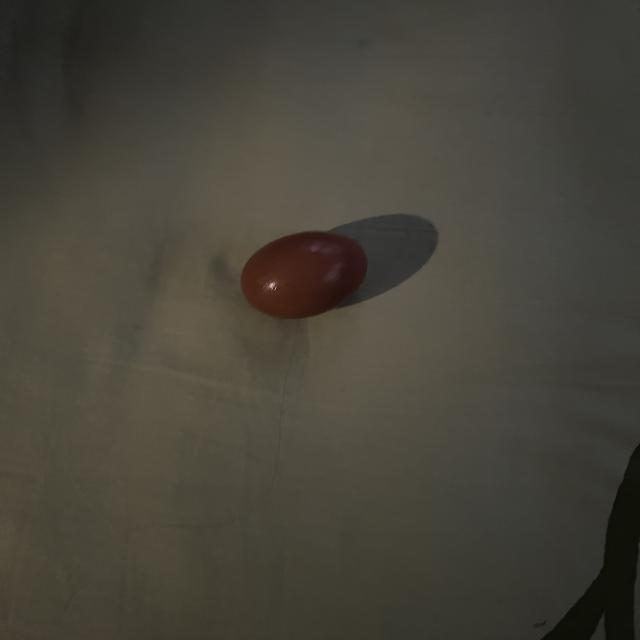egg: (236, 228, 376, 324)
